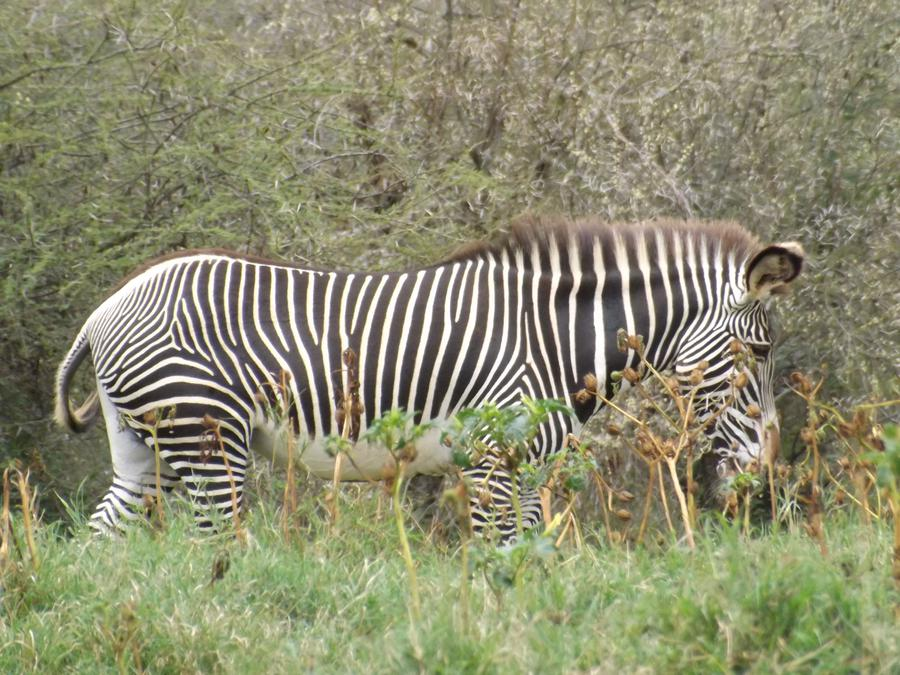zebra_grevys: (78, 232, 556, 479)
